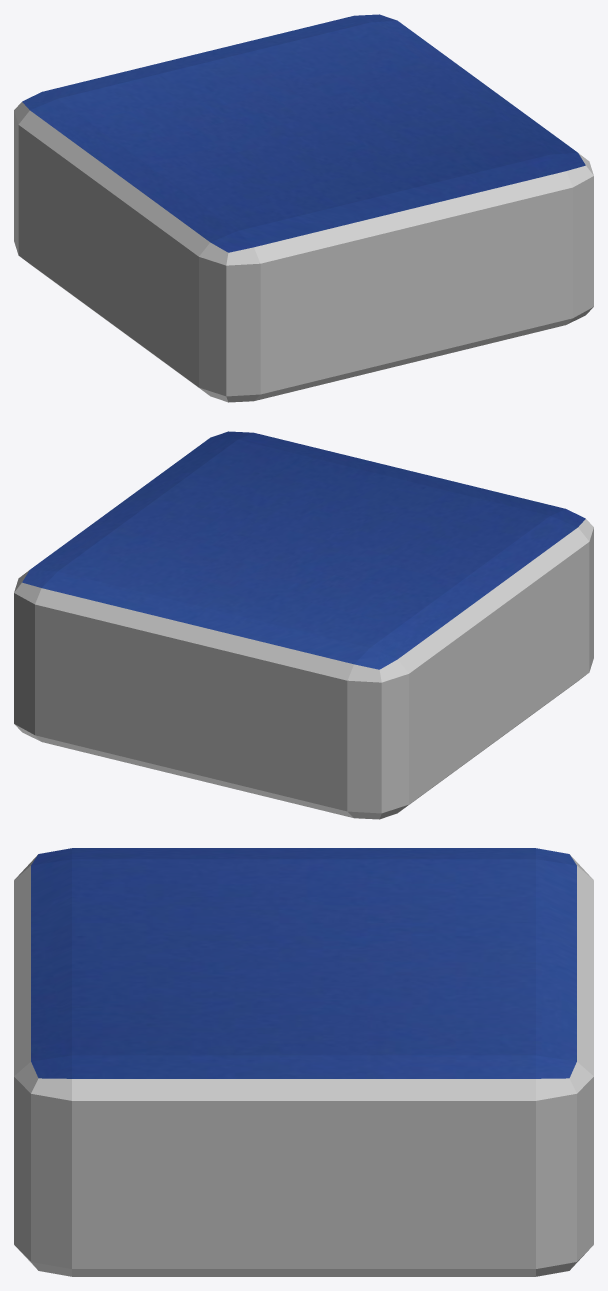
Rendered from peça9.obj.
3 views of the same model, one above another, from view 1: azimuth 30°, elevation 25°; view 2: azimuth 150°, elevation 25°; view 3: azimuth 270°, elevation 25° (orthographic). The views are drawn at different scales.
Visible parts, largest first — view 1: Cubo.006; view 2: Cubo.006; view 3: Cubo.006.
Boxes of the visible parts, box(x1,y1,x2,y2) form: Cubo.006: box(14, 14, 593, 402); Cubo.006: box(14, 431, 593, 819); Cubo.006: box(14, 848, 593, 1276).
Size of the model in its own units: 0.5 by 0.2 by 0.5.
